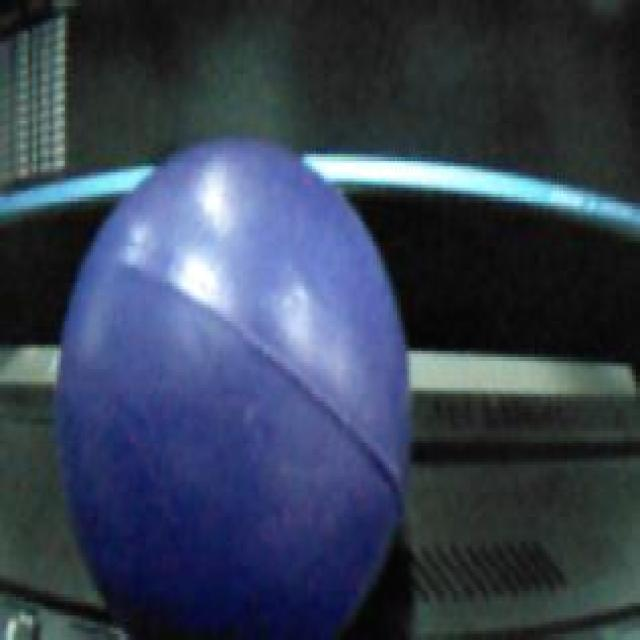BallPurple: (55, 134, 411, 640)
